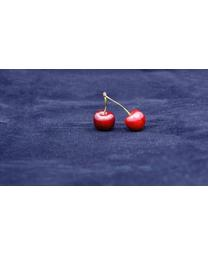cherry: (123, 109, 146, 132), (93, 111, 116, 132)
